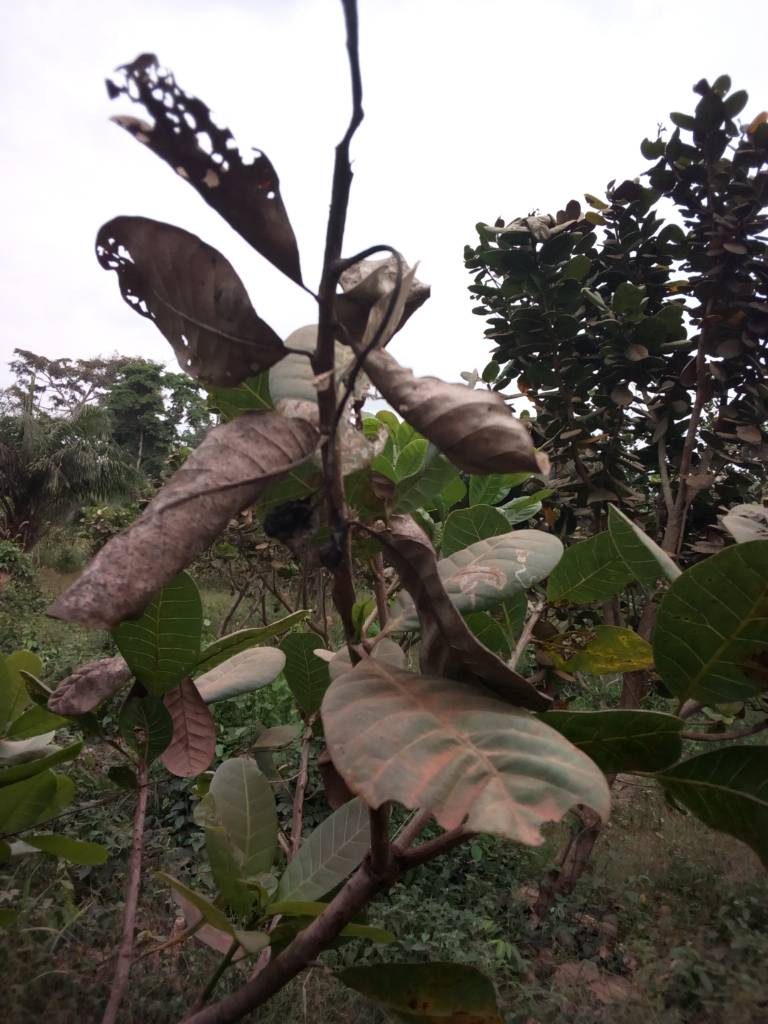Dessèchement des bourgeons: (258, 488, 340, 569)
